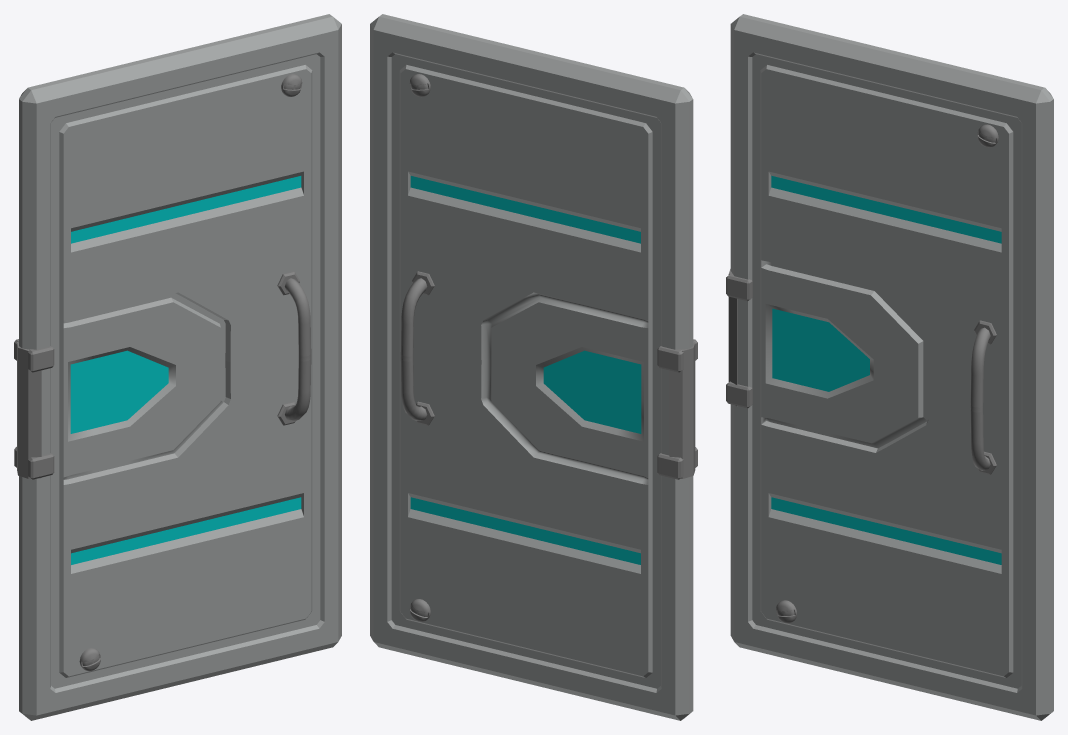
Rendered from PorteUsine1.fbx.
3 views of the same model, side by side, from view 1: azimuth 30°, elevation 25°; view 2: azimuth 150°, elevation 25°; view 3: azimuth 330°, elevation 25° (orthographic).
Visible parts, largest first — view 1: polySurface217; view 2: polySurface217; view 3: polySurface217.
Part boxes in pixels (x1=…): polySurface217: x1=14, y1=14, x2=341, y2=720; polySurface217: x1=370, y1=14, x2=697, y2=720; polySurface217: x1=726, y1=14, x2=1053, y2=720.
Bounding box in the file's own units: 108 × 202 × 26.41.
